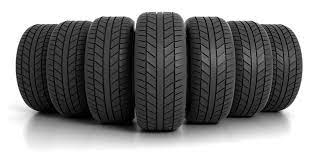tire: (134, 12, 186, 132), (185, 16, 235, 125), (84, 16, 134, 125), (227, 20, 273, 118), (46, 21, 90, 118), (259, 24, 302, 113), (15, 24, 57, 114)
